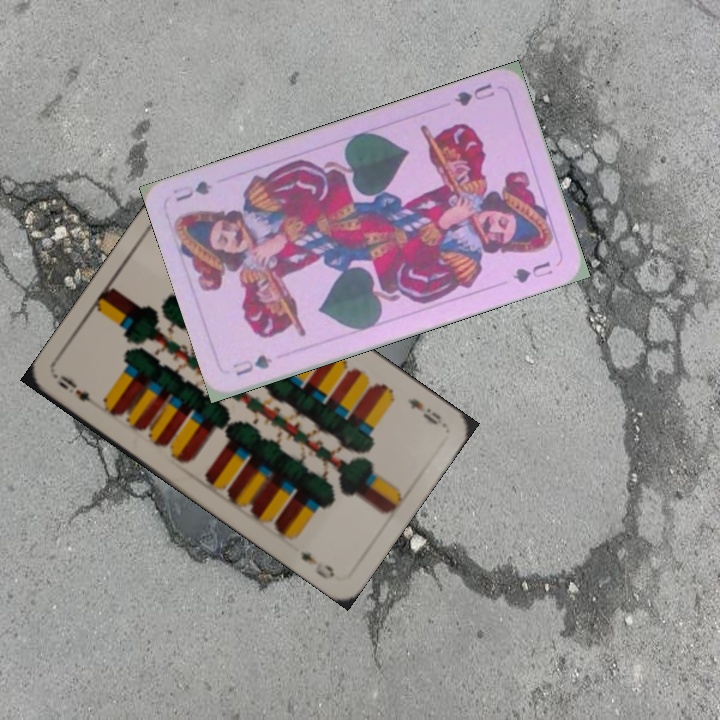E9: (53, 370, 104, 412), (403, 394, 447, 429)
GU: (450, 79, 498, 109), (229, 350, 275, 379)
